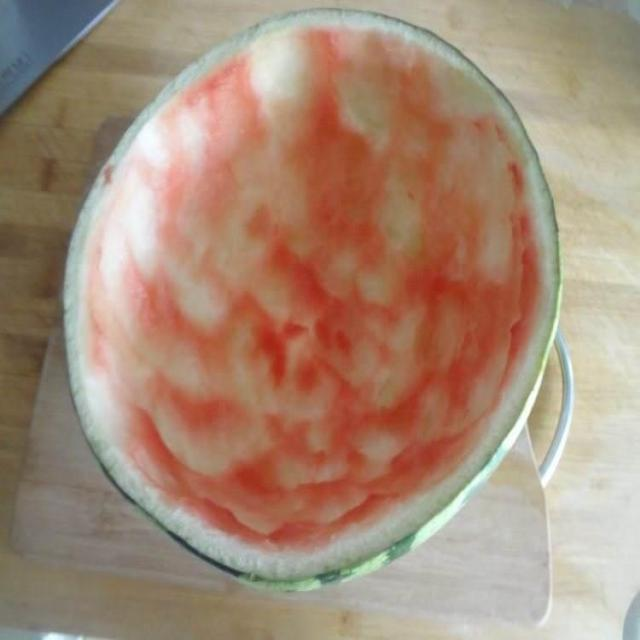Wet: (60, 1, 565, 594)
